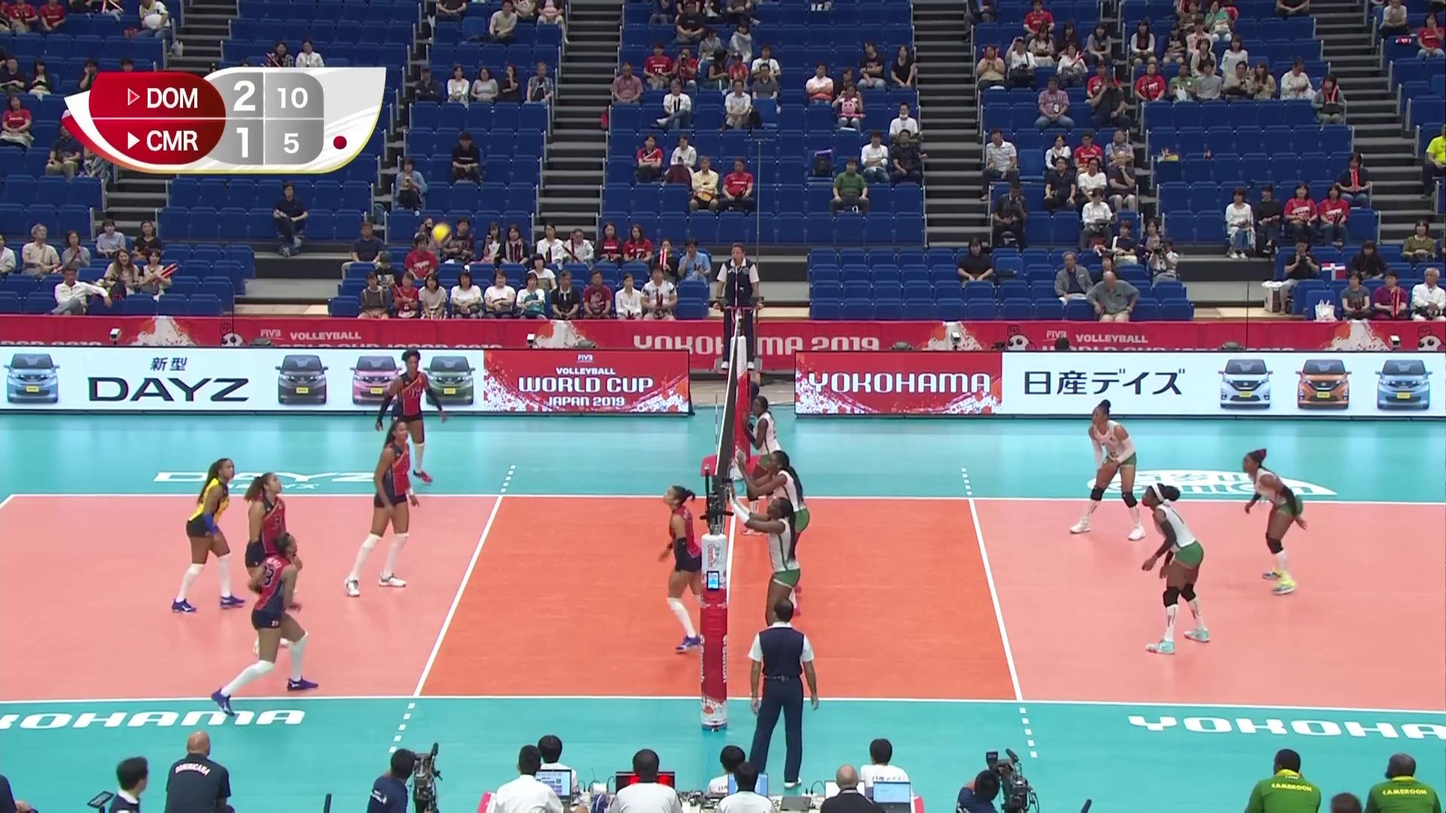player: (214, 530, 320, 718), (341, 421, 416, 593), (1139, 483, 1210, 655), (730, 496, 799, 656), (743, 452, 812, 612), (170, 457, 241, 612), (1069, 402, 1148, 540), (1238, 449, 1311, 596), (373, 347, 448, 484), (657, 486, 714, 651), (246, 474, 298, 650), (745, 395, 780, 534)
refree: (740, 602, 819, 786), (716, 242, 763, 372)
